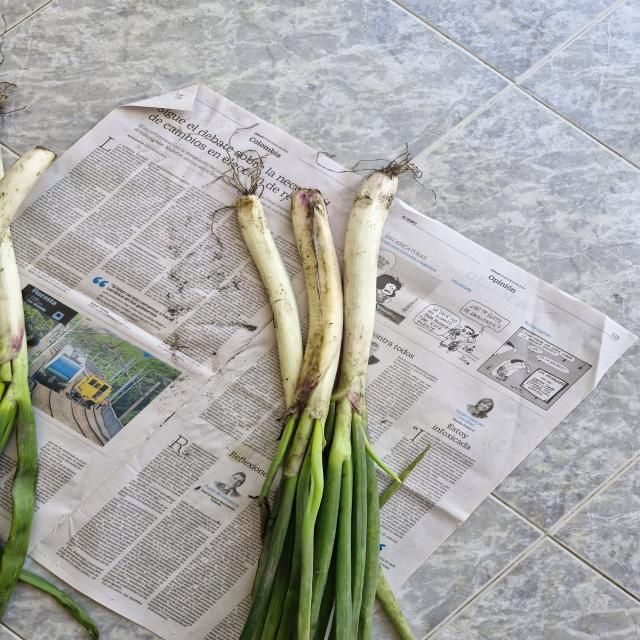green_onion: (230, 156, 455, 640)
